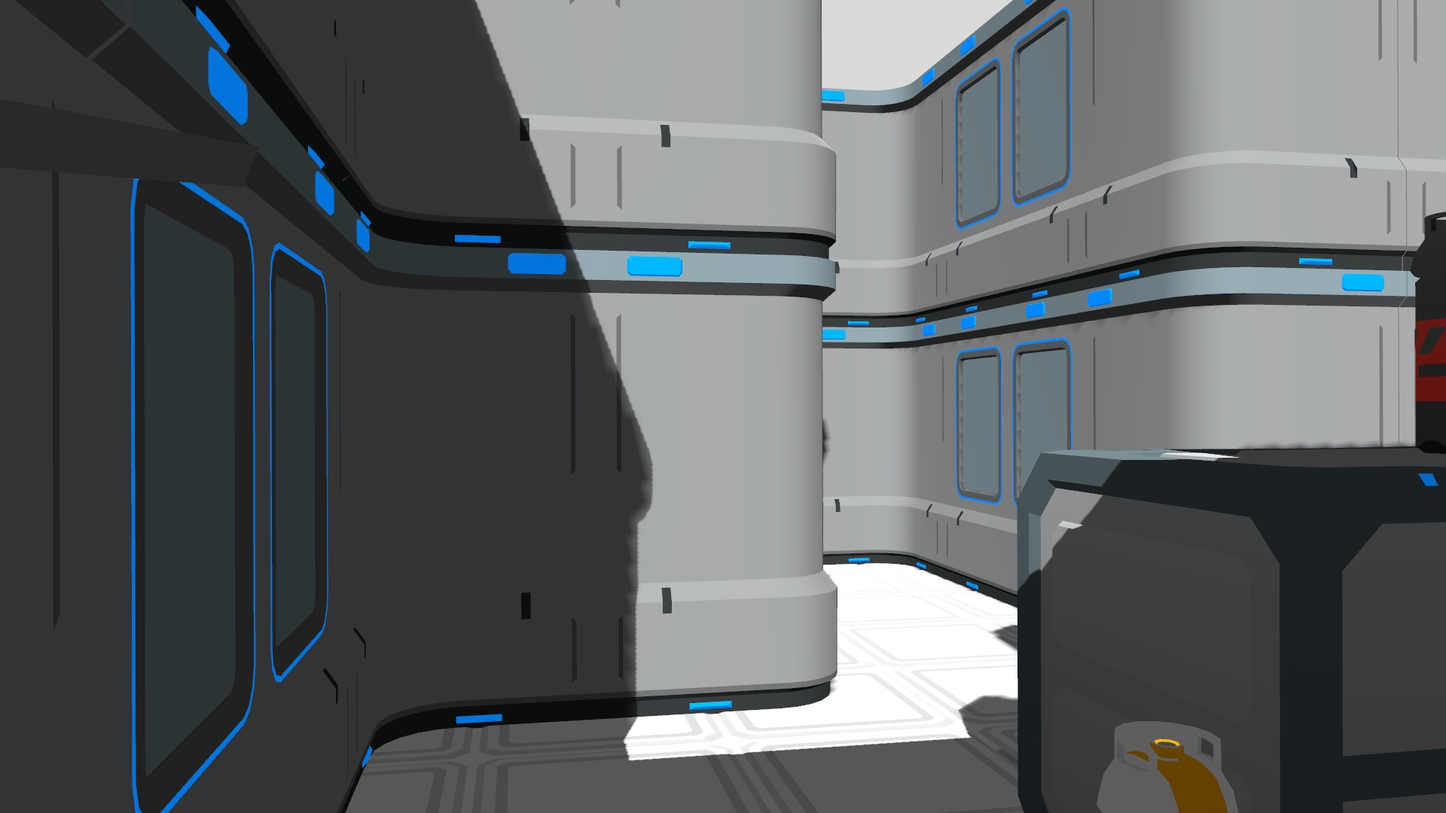yellow_barrel: (1093, 720, 1243, 813)
